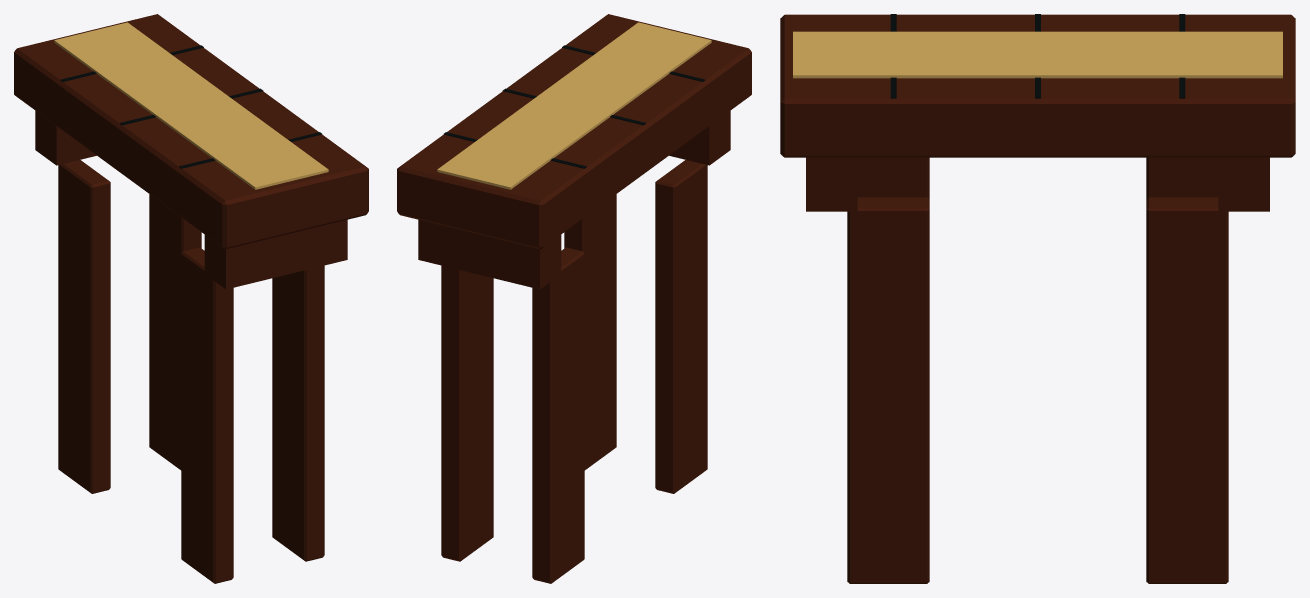
Rendered from panel_r5_restaurant_exit_table.fbx.
The picture shows the model from 3 angles, left to right: view 1: azimuth 30°, elevation 25°; view 2: azimuth 150°, elevation 25°; view 3: azimuth 270°, elevation 25°; orthographic projection. The views are drawn at different scales.
Visible parts, largest first — view 1: Part_0; view 2: Part_0; view 3: Part_0.
Part boxes in pixels (<box>): Part_0: <box>14,14,368,583</box>; Part_0: <box>397,14,751,583</box>; Part_0: <box>780,14,1295,583</box>.
Bounding box in the file's own units: 1.2 × 3.2 × 3.
